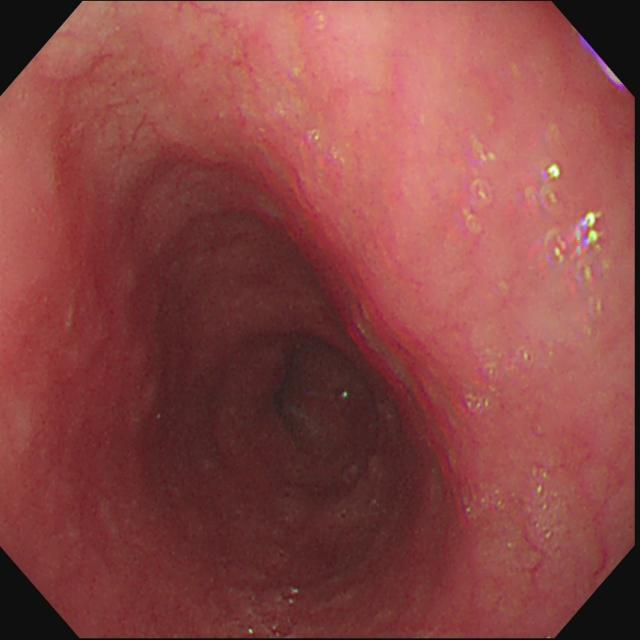E: (248, 317, 388, 489)
T: (536, 162, 604, 286), (463, 173, 495, 240)
